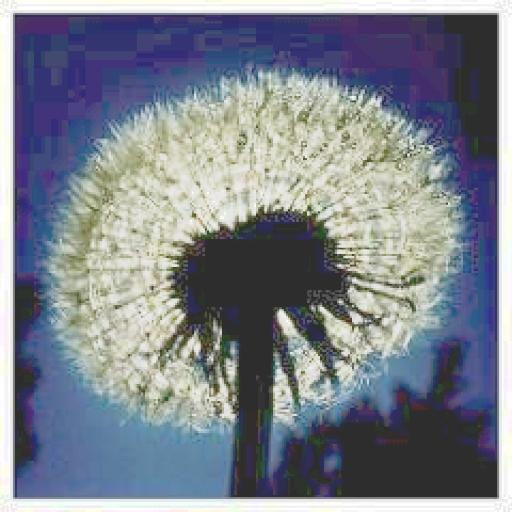dandelion: (42, 66, 474, 427)
